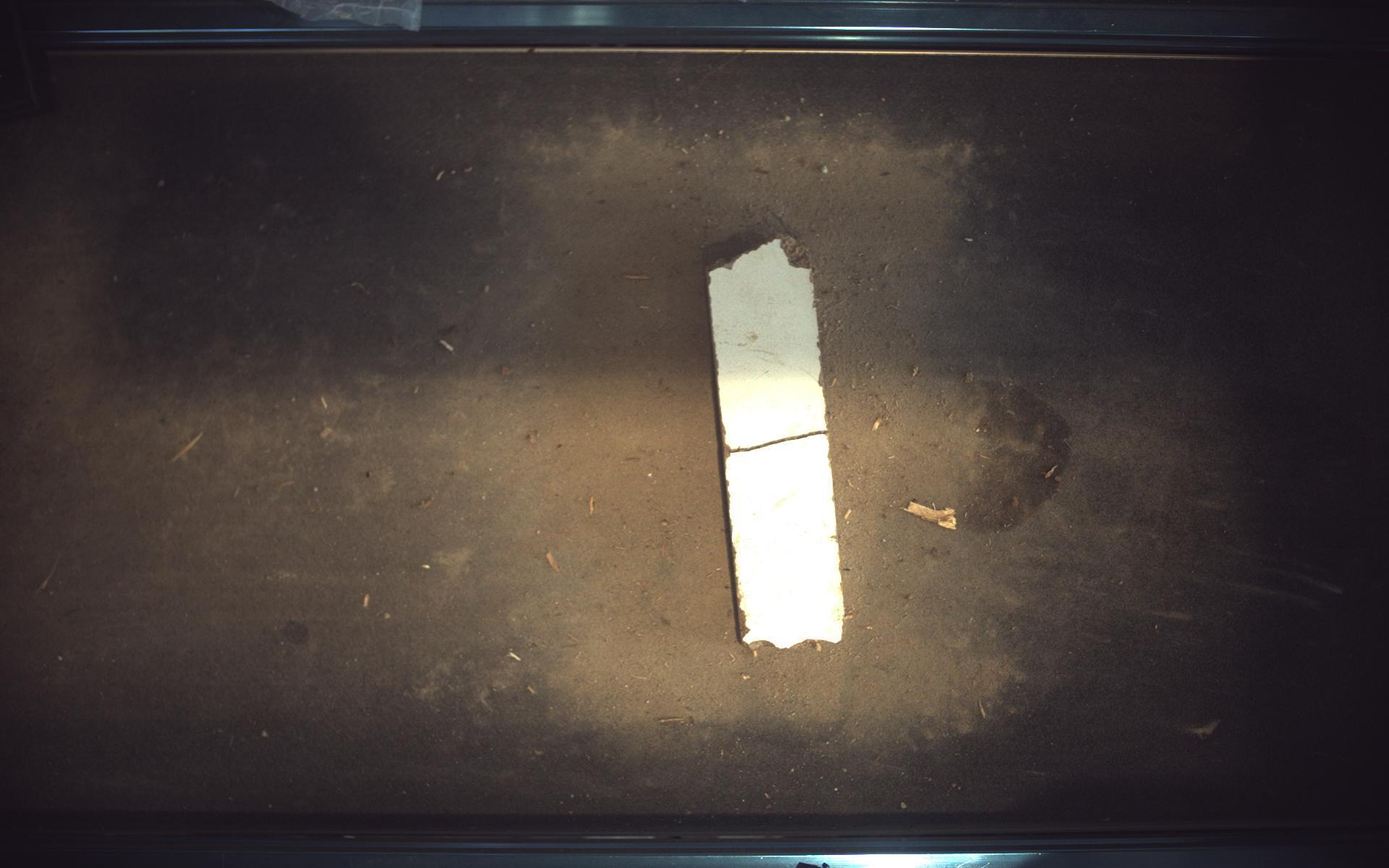wood: (710, 237, 846, 649)
